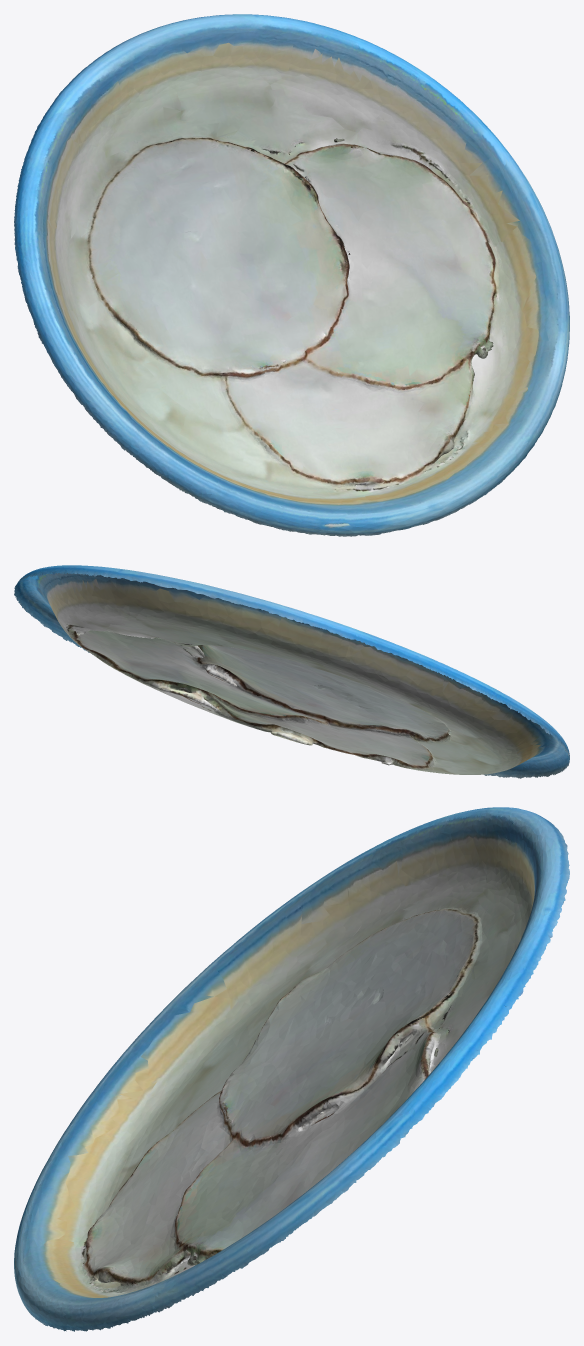
File: Aufschnitt.fbx
3 views of the same model, one above another, from view 1: azimuth 30°, elevation 25°; view 2: azimuth 150°, elevation 25°; view 3: azimuth 270°, elevation 25° (orthographic). The views are drawn at different scales.
Parts seen in each view (by area): view 1: Aufschnitt_tex_high; view 2: Aufschnitt_tex_high; view 3: Aufschnitt_tex_high.
Part boxes in pixels (x1=…): Aufschnitt_tex_high: x1=14, y1=14, x2=569, y2=536; Aufschnitt_tex_high: x1=14, y1=565, x2=569, y2=778; Aufschnitt_tex_high: x1=14, y1=807, x2=569, y2=1331.
Bounding box in the file's own units: 19.81 × 12.78 × 15.39.
